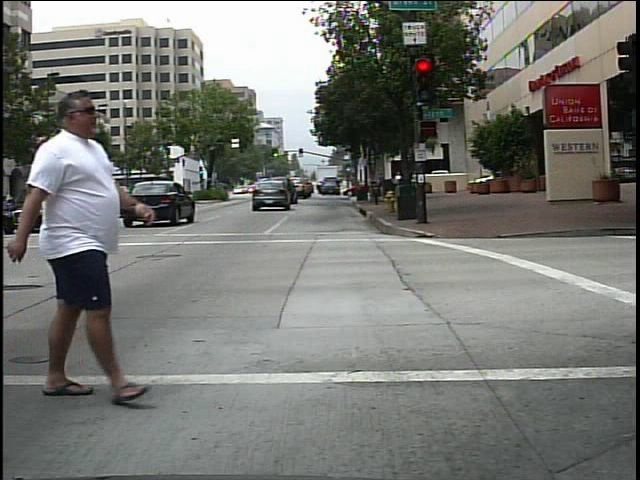person: (7, 88, 159, 404)
